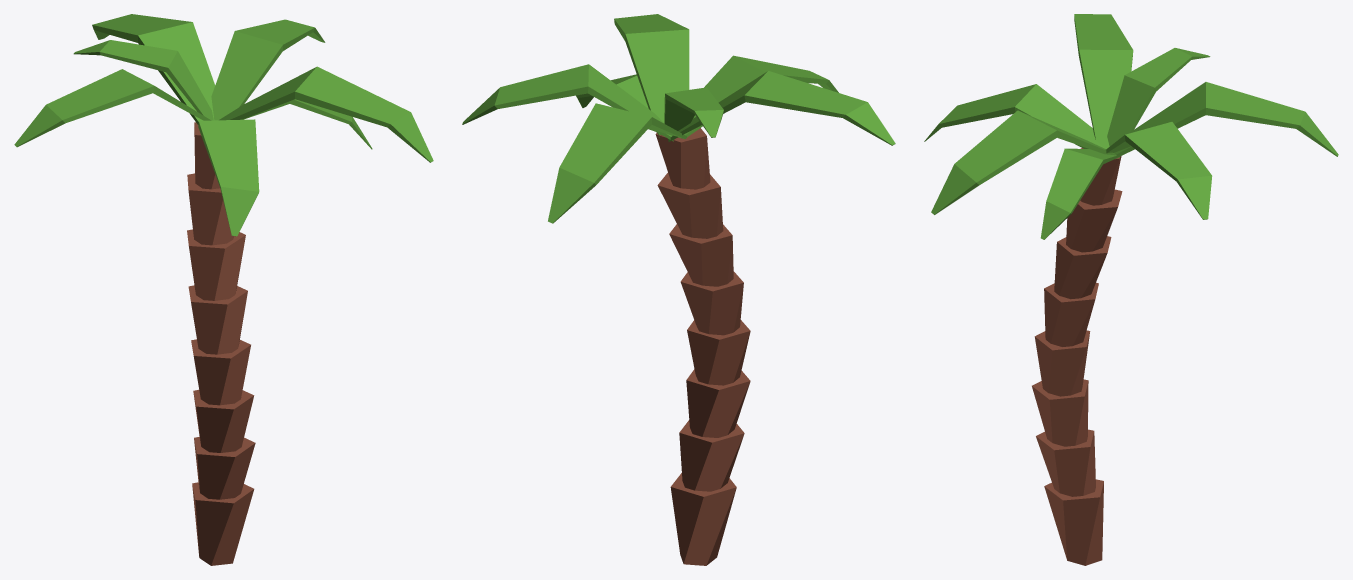
The model's file is palme_clear 1.fbx.
3 renders of one model, left to right at view 1: azimuth 30°, elevation 25°; view 2: azimuth 150°, elevation 25°; view 3: azimuth 270°, elevation 25°, orthographic. The views are drawn at different scales.
Visible parts, largest first — view 1: Cube.007; view 2: Cube.007; view 3: Cube.007.
Boxes of the visible parts, x1,y1,x2,y2 form: Cube.007: (14,14,433,565); Cube.007: (462,14,895,565); Cube.007: (924,14,1338,565).
Size of the model in its own units: 320 by 411 by 324.
